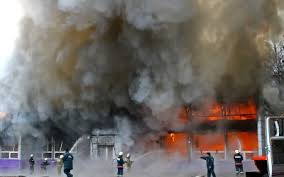smoke: (2, 1, 284, 140)
